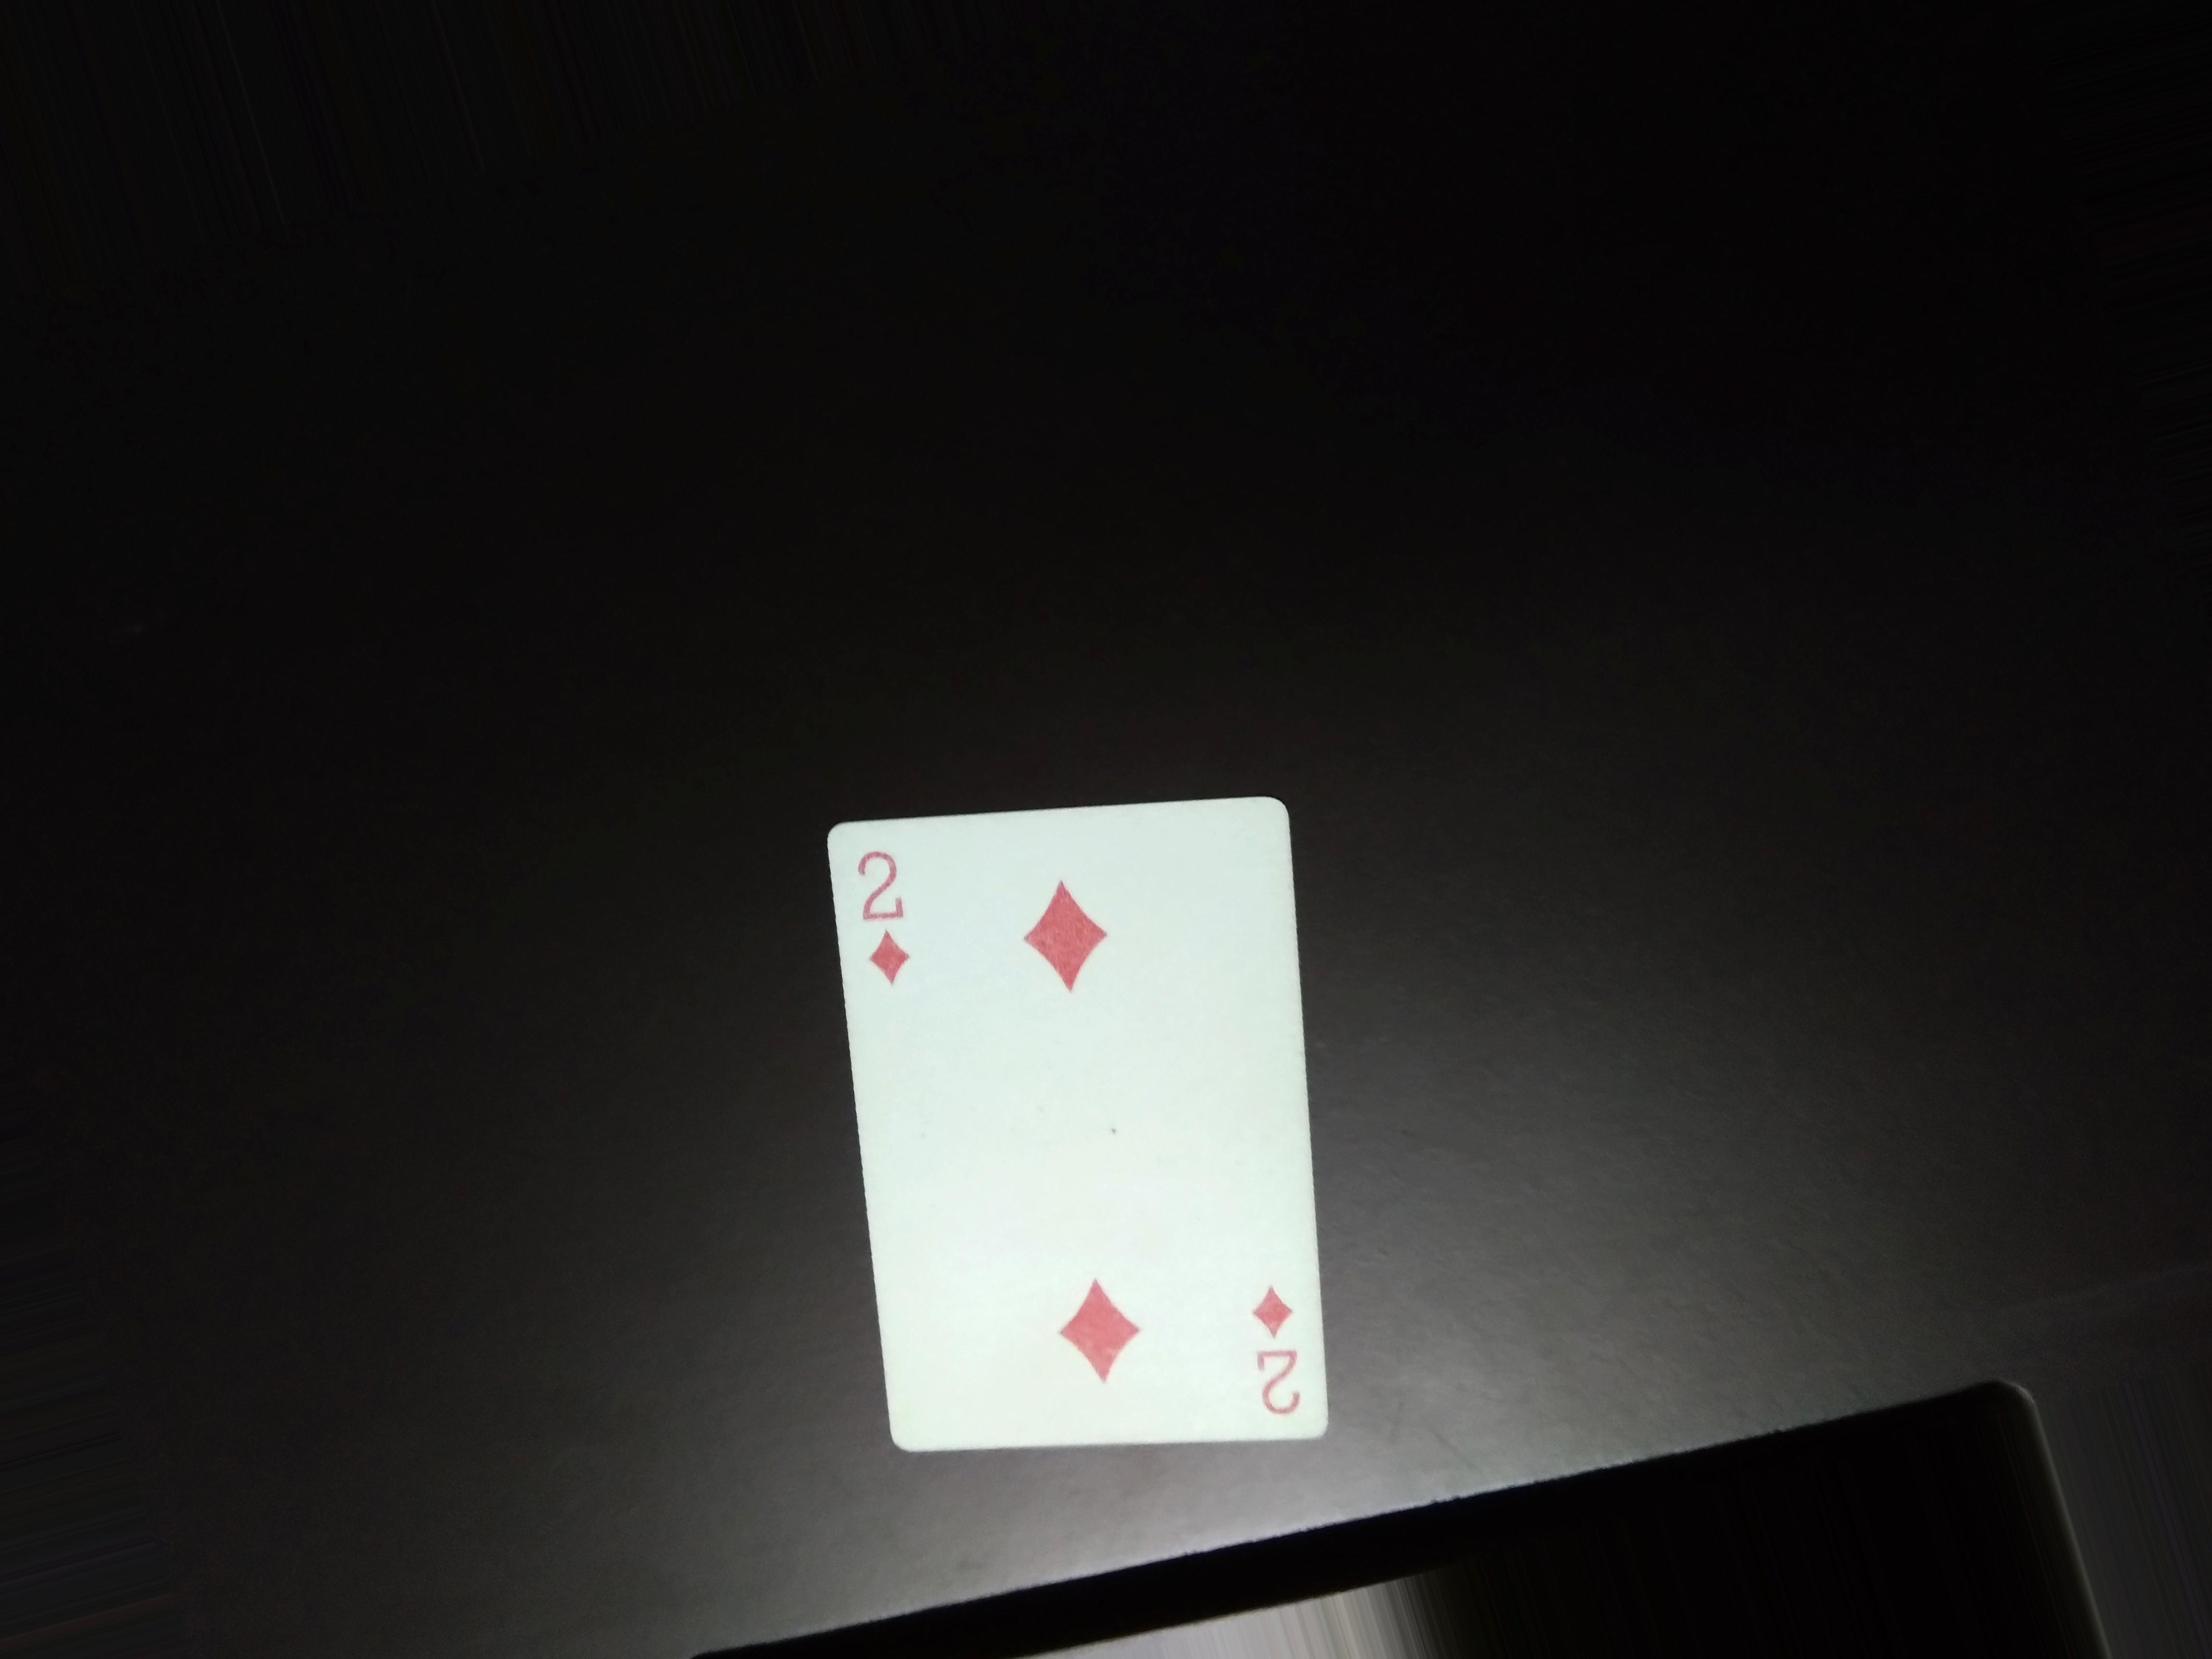2D: (845, 842, 944, 1007)
